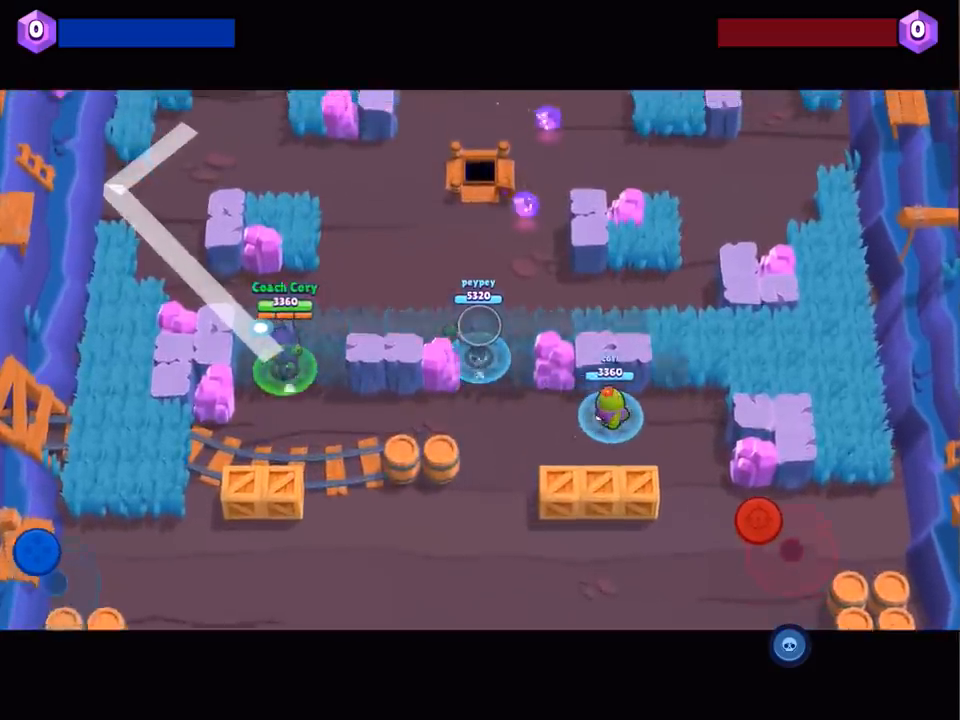move_stick: (19, 524, 54, 578), (50, 551, 63, 553)
